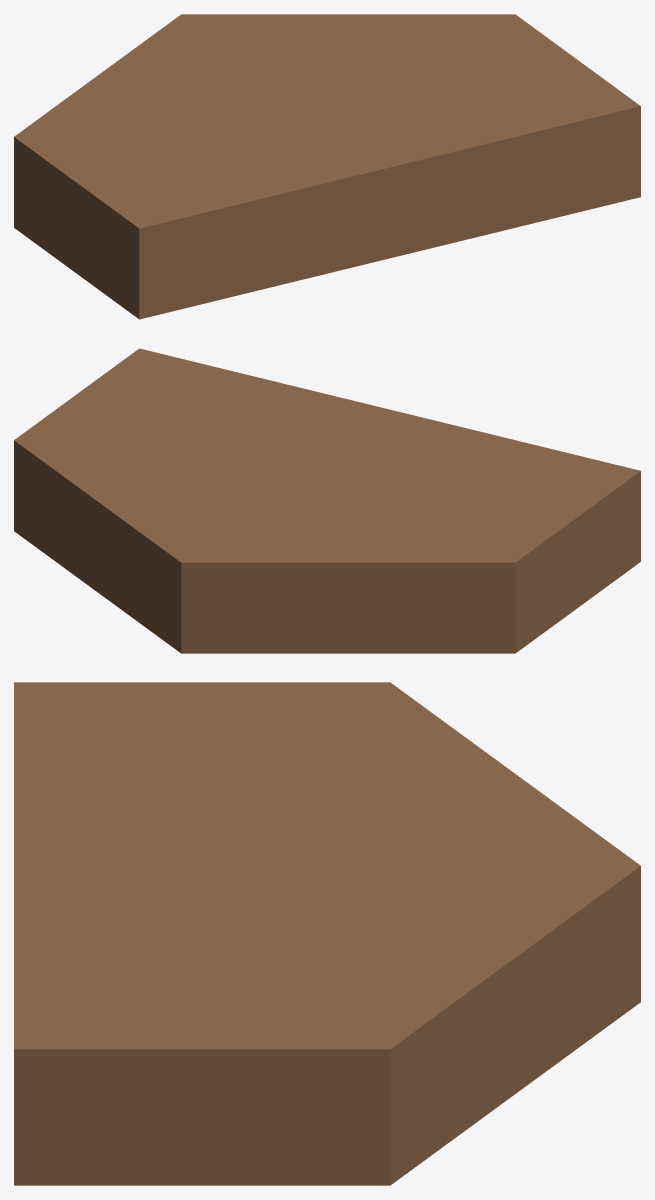
The model's file is _10wall.glb.
The picture shows the model from 3 angles, top to bottom: view 1: azimuth 30°, elevation 25°; view 2: azimuth 150°, elevation 25°; view 3: azimuth 270°, elevation 25°; orthographic projection. The views are drawn at different scales.
Parts seen in each view (by area): view 1: Cliff2; view 2: Cliff2; view 3: Cliff2.
Part boxes in pixels (left/top/right/bottom): Cliff2: left=14, top=14, right=640, bottom=319; Cliff2: left=14, top=348, right=640, bottom=653; Cliff2: left=14, top=682, right=640, bottom=1185.
Size of the model in its own units: 1.73 by 0.3 by 1.25.
Materials: 1 (1 with a texture image).
